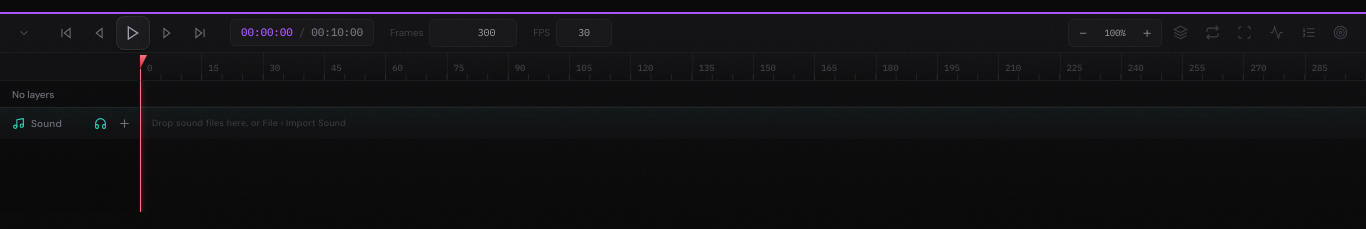
Test case: Timeline › steps forward one frame
Click the button titled "Next frame (.)" at (168, 32), box top-left (154, 18), bottom-right (182, 46)
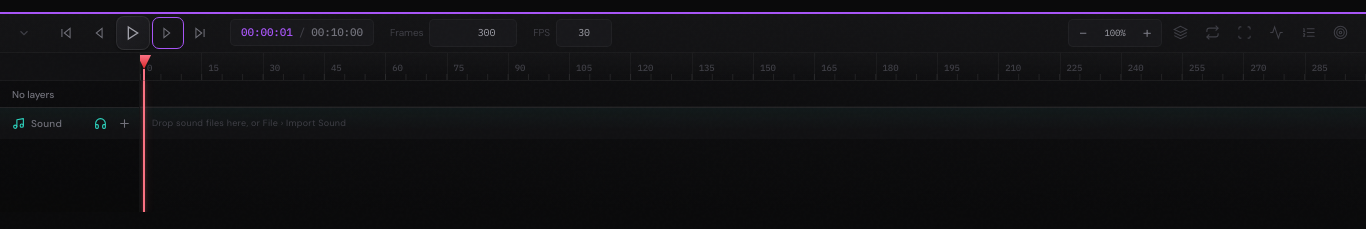
Check: the text "00:00:01" is shown, box top-left (241, 24), bottom-right (293, 41)
